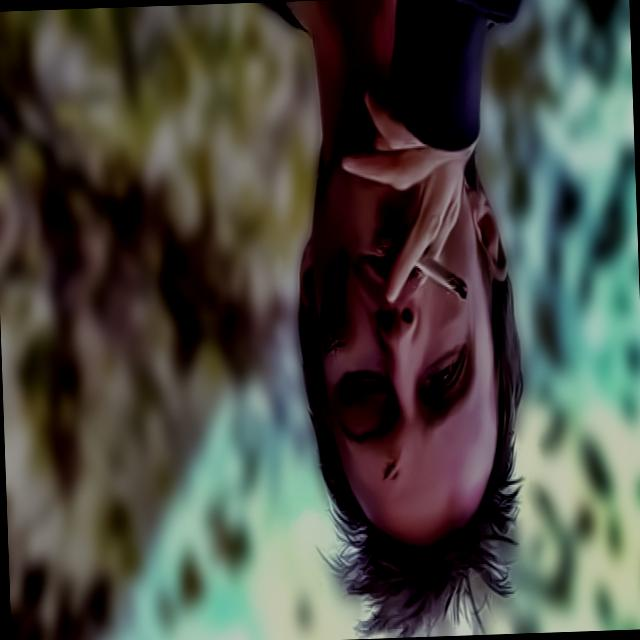smoke: (388, 242, 484, 306)
